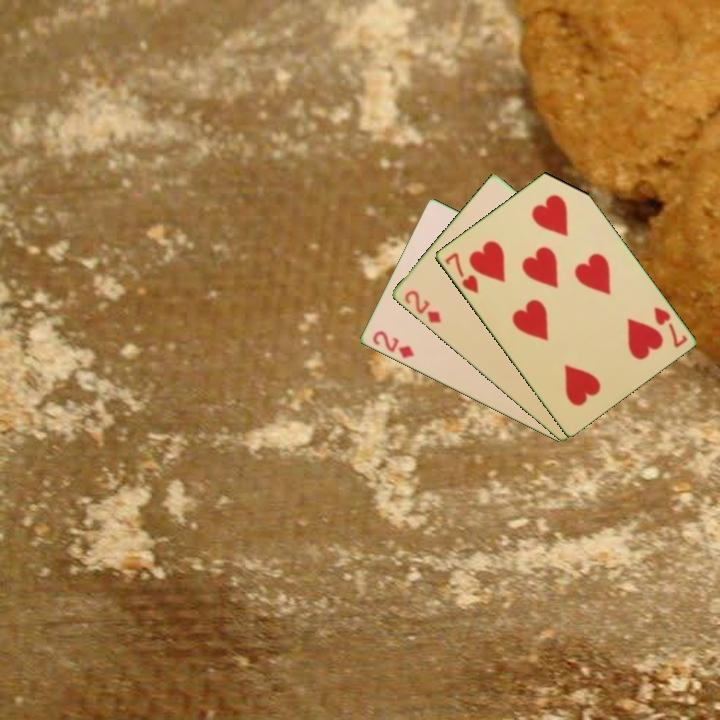2d: (400, 287, 444, 326), (368, 327, 417, 361)
7h: (441, 249, 481, 297), (650, 303, 690, 350)
